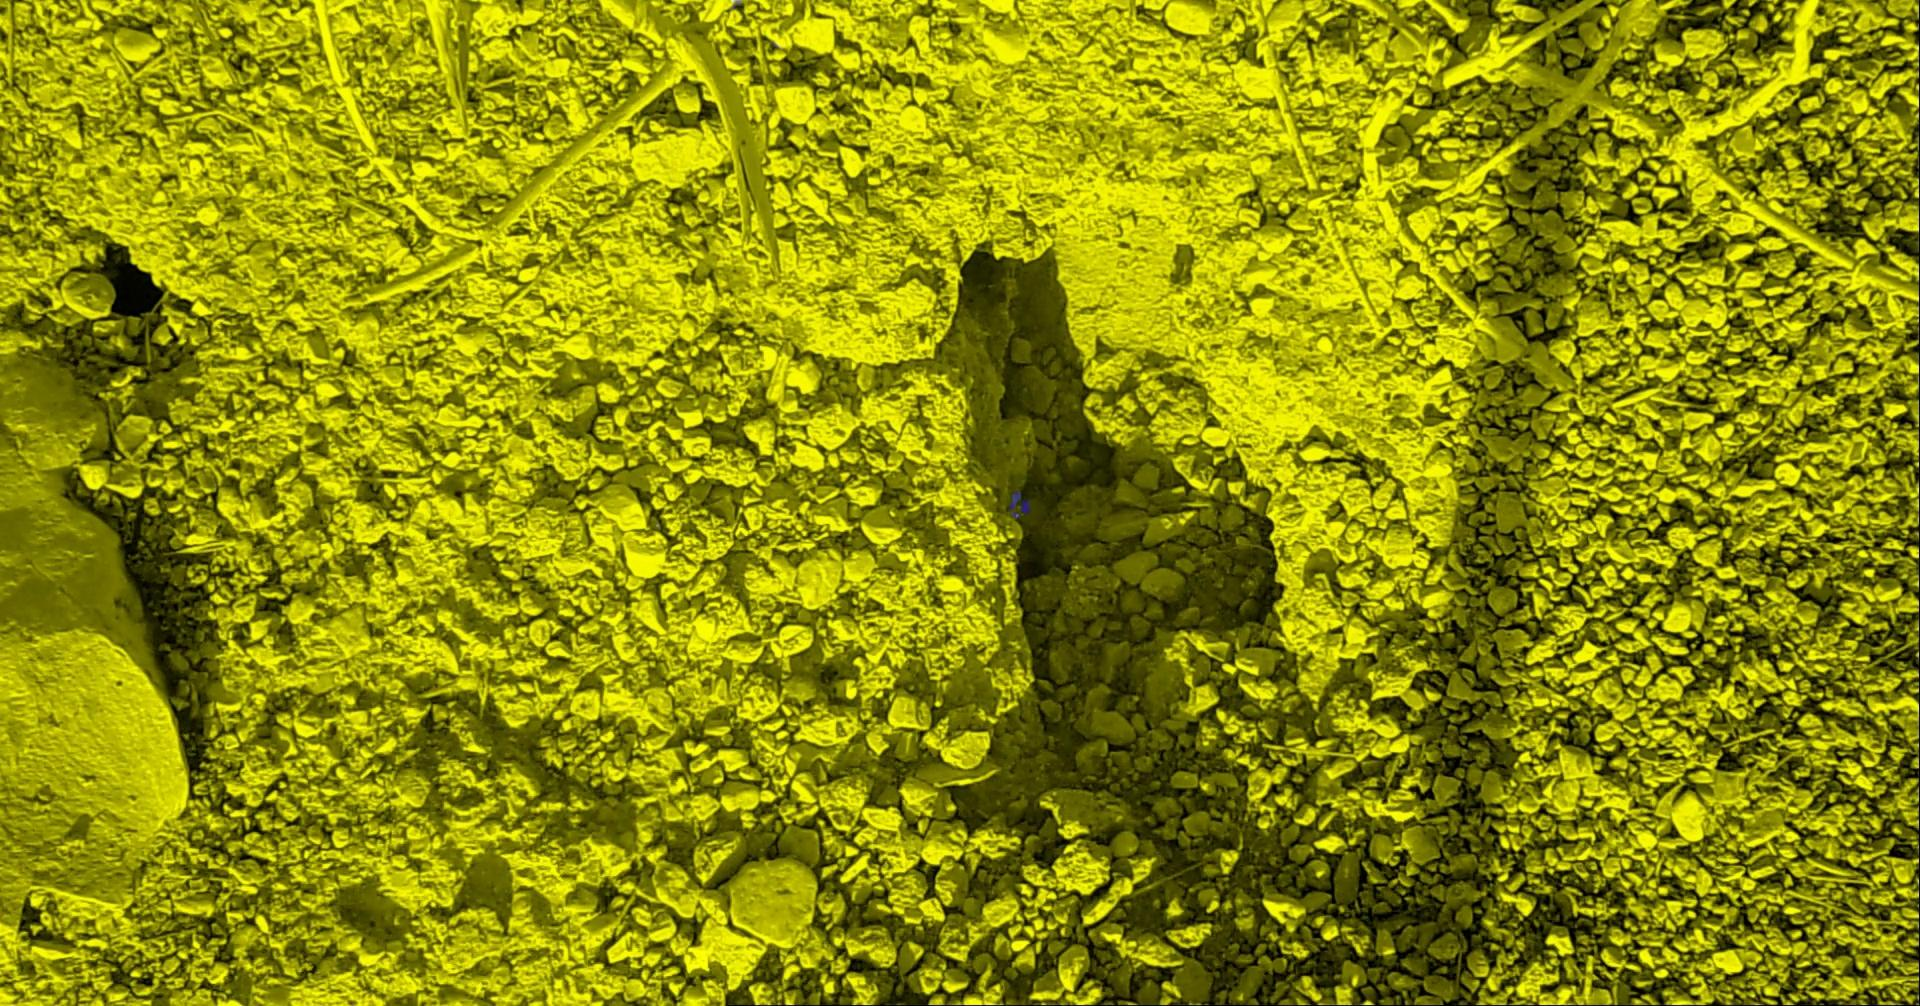ant: (1008, 490, 1029, 518)
